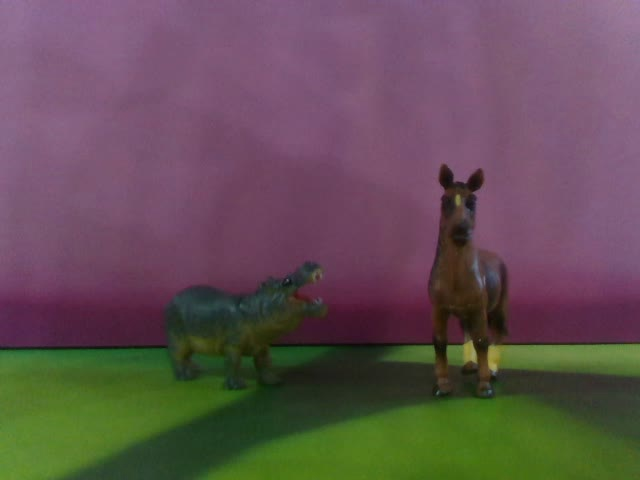toy: (165, 261, 329, 388), (427, 165, 510, 400)
